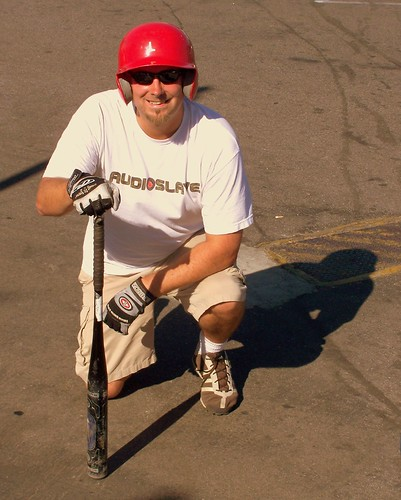person hardhat: (114, 21, 200, 126)
